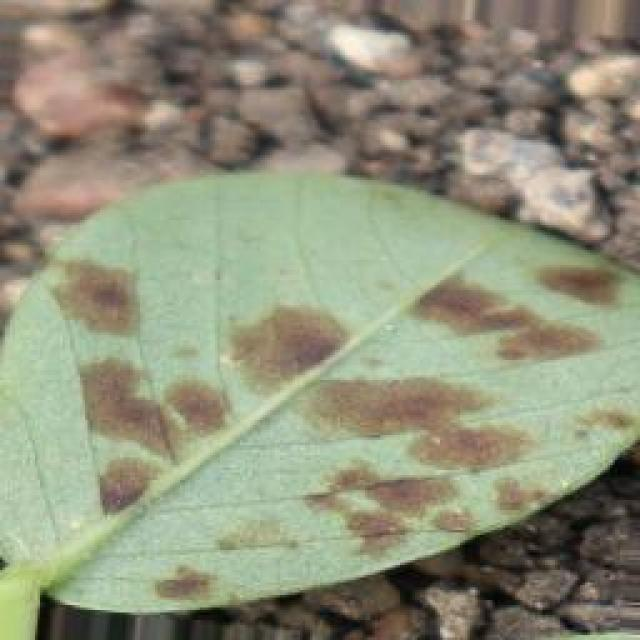Whitefly: (0, 175, 640, 635)
